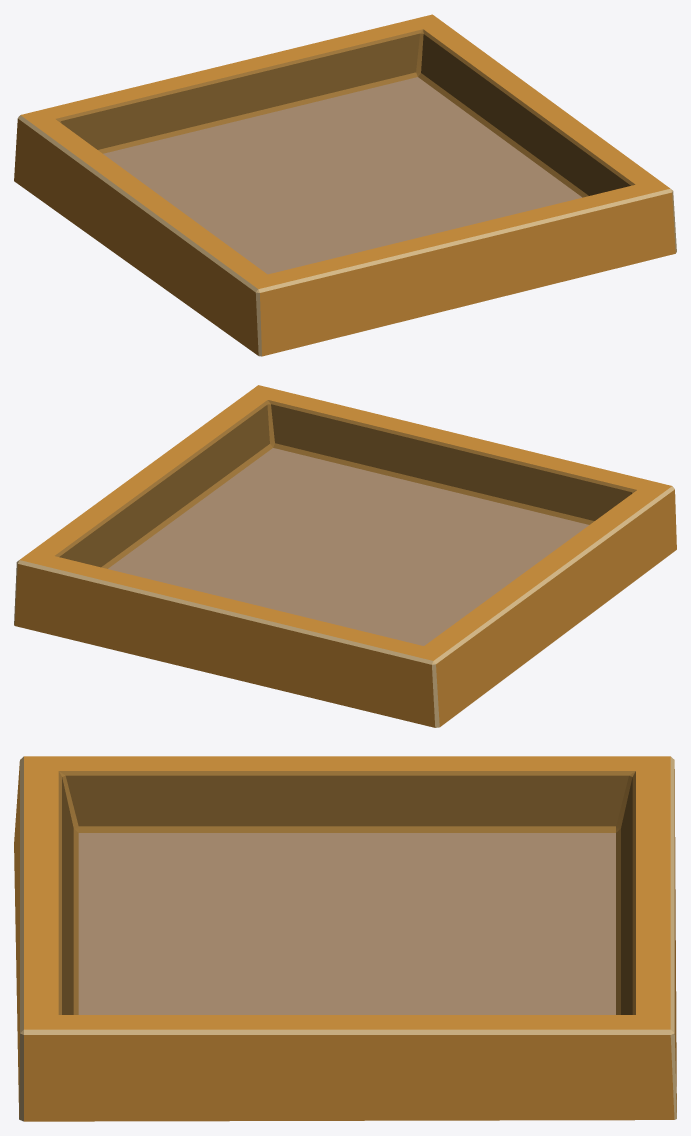
File: sand.fbx
3 views of the same model, one above another, from view 1: azimuth 30°, elevation 25°; view 2: azimuth 150°, elevation 25°; view 3: azimuth 270°, elevation 25° (orthographic). The views are drawn at different scales.
Parts seen in each view (by area): view 1: sandbox.001; view 2: sandbox.001; view 3: sandbox.001.
Boxes of the visible parts, x1,y1,x2,y2 form: sandbox.001: (14,14,676,356); sandbox.001: (14,385,676,727); sandbox.001: (14,756,676,1121).
Bounding box in the file's own units: 410 × 59.65 × 408.
